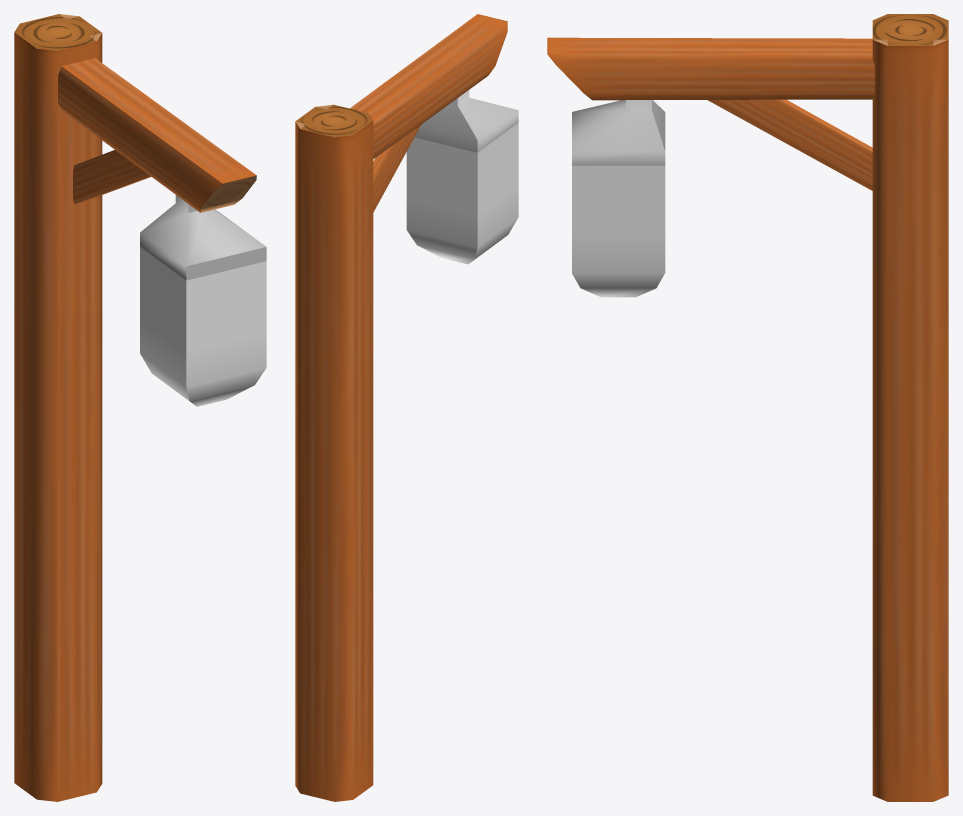
File: Gum Wood Lamp Post Hand.fbx
The picture shows the model from 3 angles, left to right: view 1: azimuth 30°, elevation 25°; view 2: azimuth 150°, elevation 25°; view 3: azimuth 270°, elevation 25°; orthographic projection. The views are drawn at different scales.
Visible parts, largest first — view 1: FencePost (1), MineLight (4); view 2: FencePost (1), MineLight (4); view 3: FencePost (1), MineLight (4).
Part boxes in pixels (box(x1,y1,x2,y2)): FencePost (1): box(14, 14, 256, 801); MineLight (4): box(140, 195, 266, 406); FencePost (1): box(295, 14, 507, 801); MineLight (4): box(406, 90, 518, 264); FencePost (1): box(547, 14, 948, 801); MineLight (4): box(572, 100, 665, 297).
Size of the model in its own units: 0.2049 by 1.83 by 0.8804.
